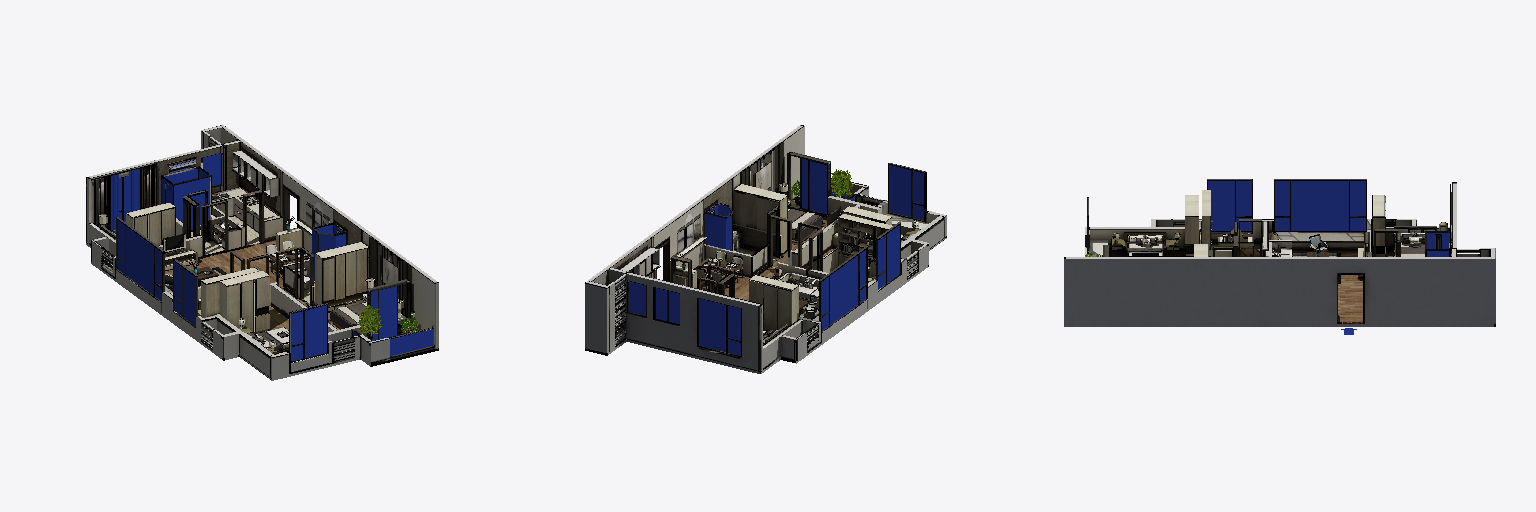
3 views of the same model, side by side, from view 1: azimuth 30°, elevation 25°; view 2: azimuth 150°, elevation 25°; view 3: azimuth 270°, elevation 25° (orthographic).
Parts seen in each view (by area): view 1: Geometry_107, Geometry_101, Geometry_99, Geometry_97, Geometry_pngtree; view 2: Geometry_107, Geometry_101, Geometry_99, Geometry_pngtree; view 3: Geometry_107, Geometry_99, Geometry_101.
Part boxes in pixels (left/top/right/bottom): Geometry_107: left=86, top=125, right=438, bottom=380; Geometry_101: left=99, top=187, right=406, bottom=354; Geometry_99: left=118, top=153, right=432, bottom=360; Geometry_97: left=111, top=169, right=139, bottom=231; Geometry_pngtree: left=358, top=305, right=419, bottom=334; Geometry_107: left=585, top=125, right=946, bottom=373; Geometry_101: left=676, top=183, right=920, bottom=344; Geometry_99: left=629, top=159, right=923, bottom=355; Geometry_pngtree: left=791, top=169, right=852, bottom=197; Geometry_107: left=1064, top=179, right=1495, bottom=326; Geometry_99: left=1208, top=181, right=1448, bottom=256; Geometry_101: left=1110, top=190, right=1447, bottom=277.
Bounding box in the file's own units: 867 × 290 × 1671.
Materials: 4 (3 with a texture image).